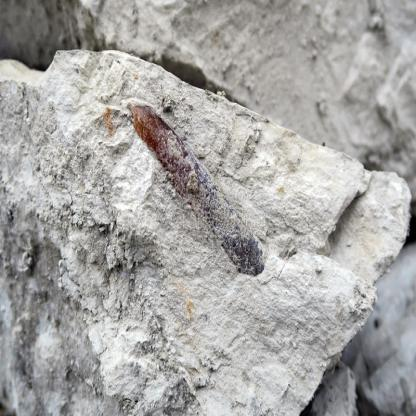Sedimentary_Chalk: (2, 43, 416, 415)
